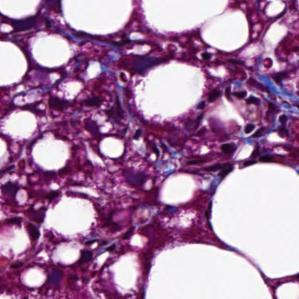inflammation: (204, 83, 263, 111), (237, 119, 272, 141)
